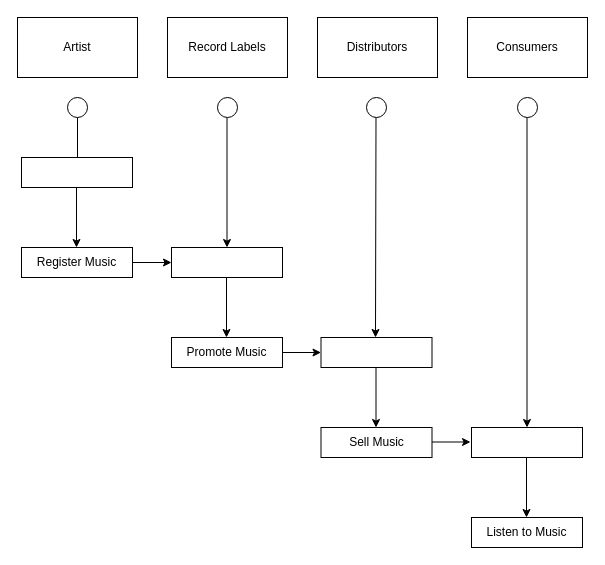
Image size: 605x565. Some labels were removed from this diagram. Here are the shapes that lost their labels. From the top down, the centre of each, then its label:
At point (76, 172): "Make Music".
At point (226, 262): "Verify Music".
At point (376, 352): "Distribute Music".
At point (526, 442): "Buy Music".
